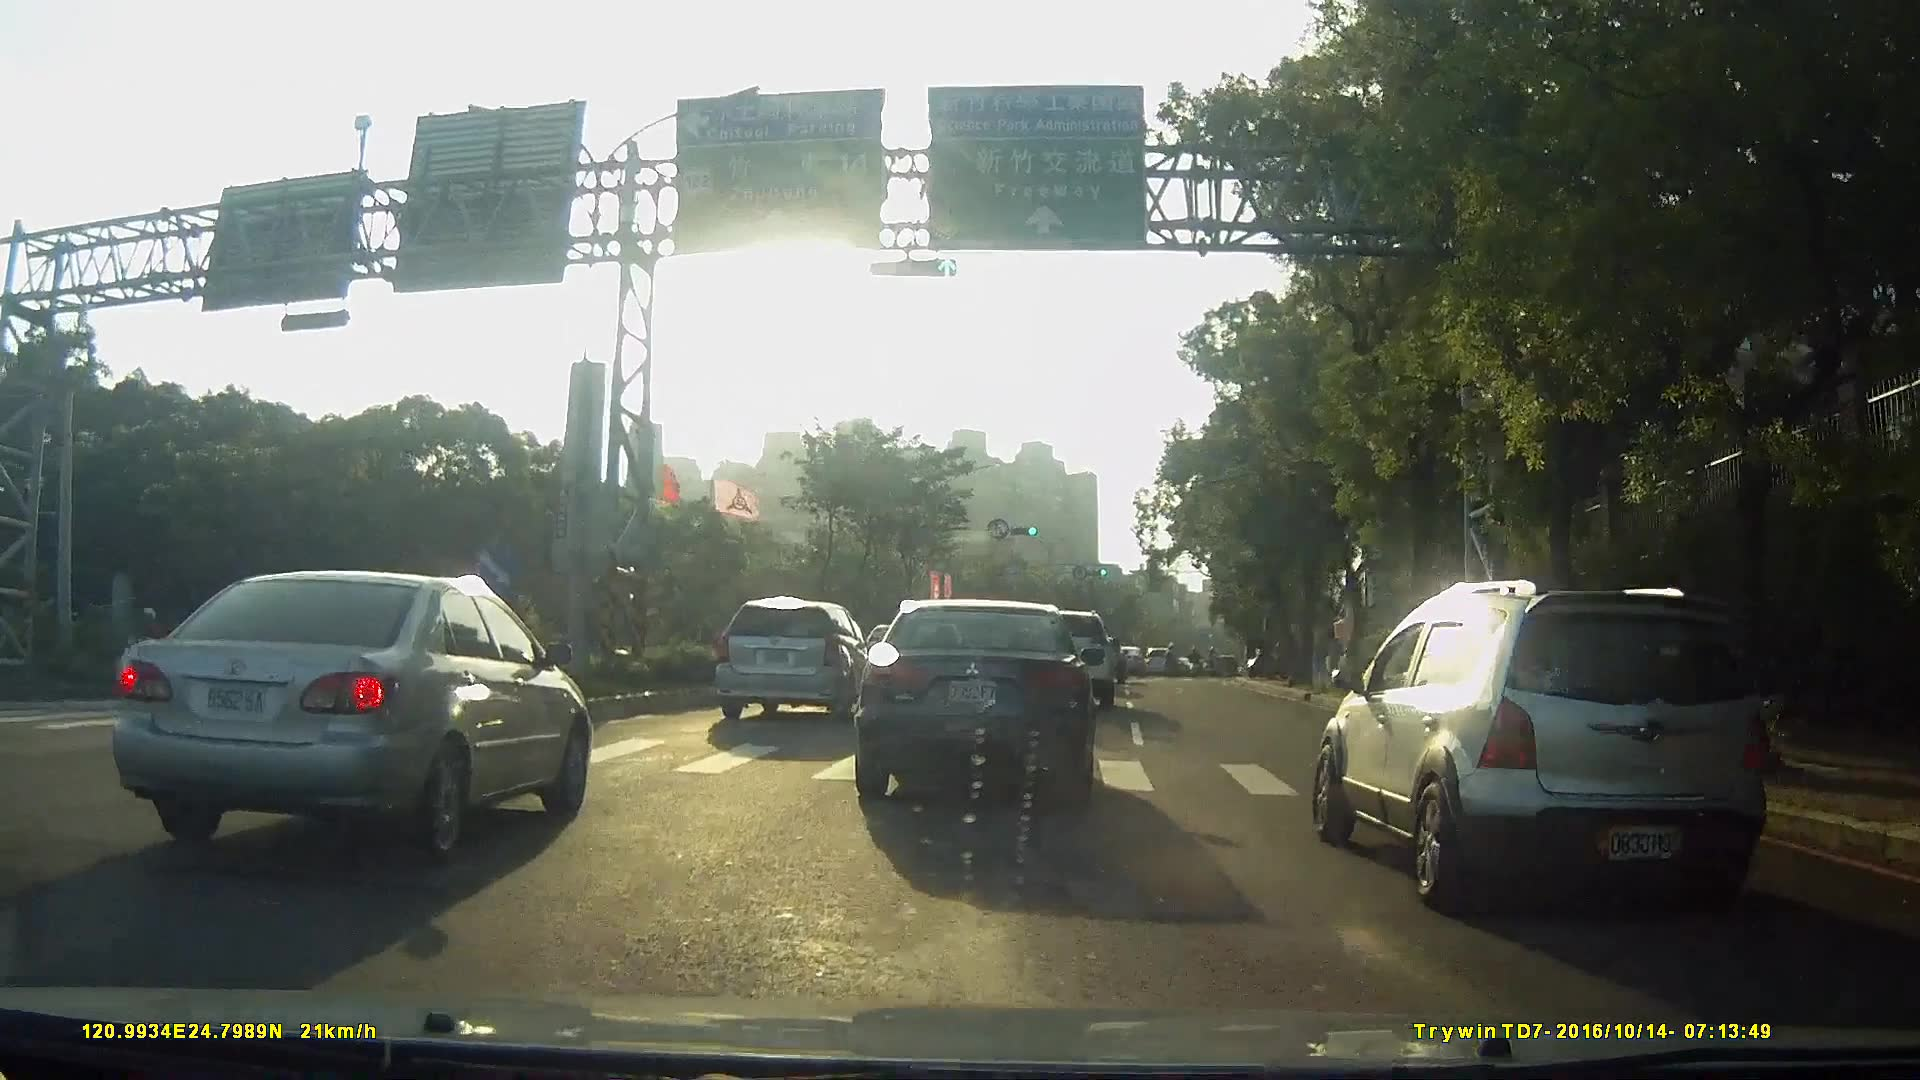vehicle: (1304, 579, 1797, 934), (88, 564, 609, 872), (852, 595, 1120, 811), (705, 603, 872, 731), (1108, 646, 1141, 676), (1137, 649, 1170, 678)
